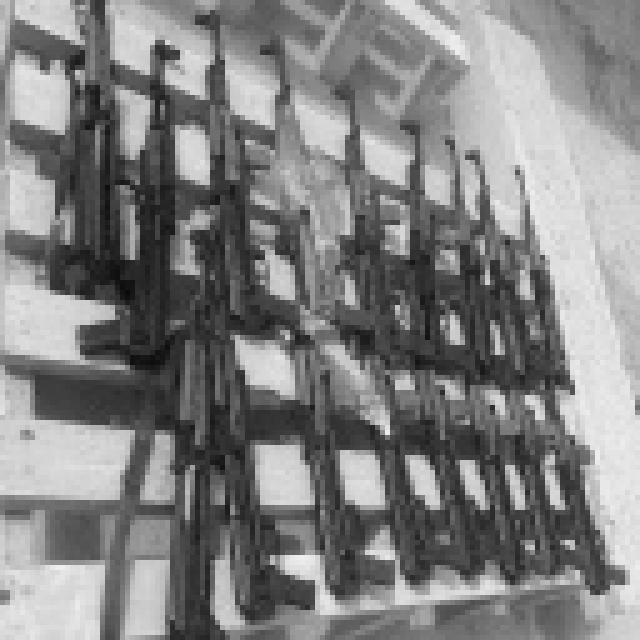Rifle: (80, 205, 235, 640), (64, 24, 186, 385), (271, 304, 401, 640), (151, 1, 270, 346), (209, 205, 300, 640), (336, 328, 457, 636), (37, 0, 139, 322), (313, 32, 407, 376), (245, 30, 342, 343), (527, 338, 630, 600), (505, 147, 605, 398), (448, 341, 525, 640), (454, 140, 538, 410), (374, 84, 452, 362), (424, 107, 494, 397), (494, 378, 579, 608)
